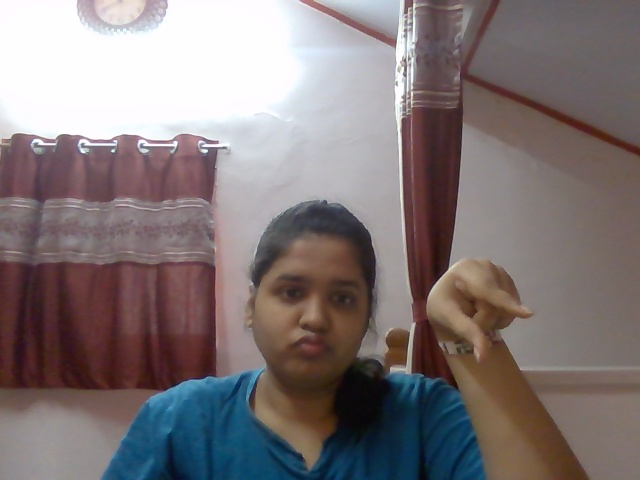q: (408, 250, 547, 369)
